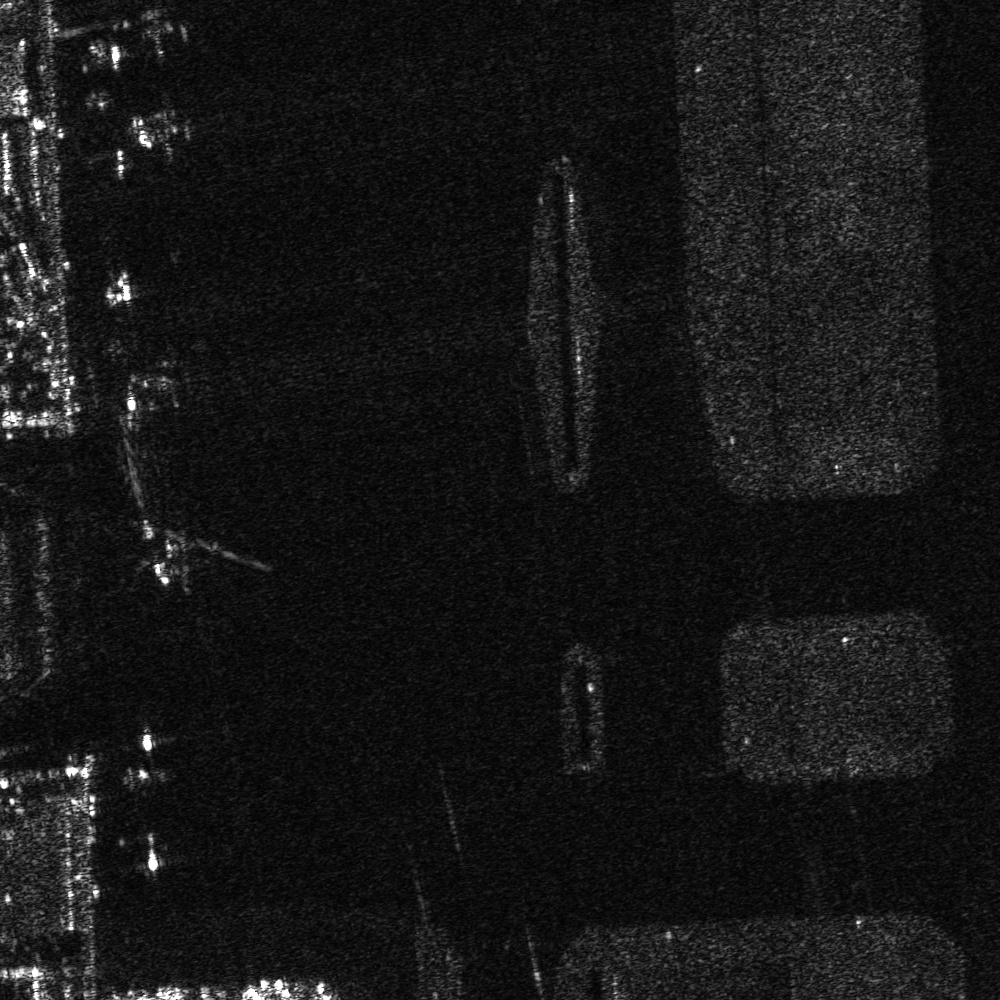A220: (146, 521, 241, 594), (121, 101, 205, 165), (124, 346, 198, 413), (126, 1, 200, 64)
